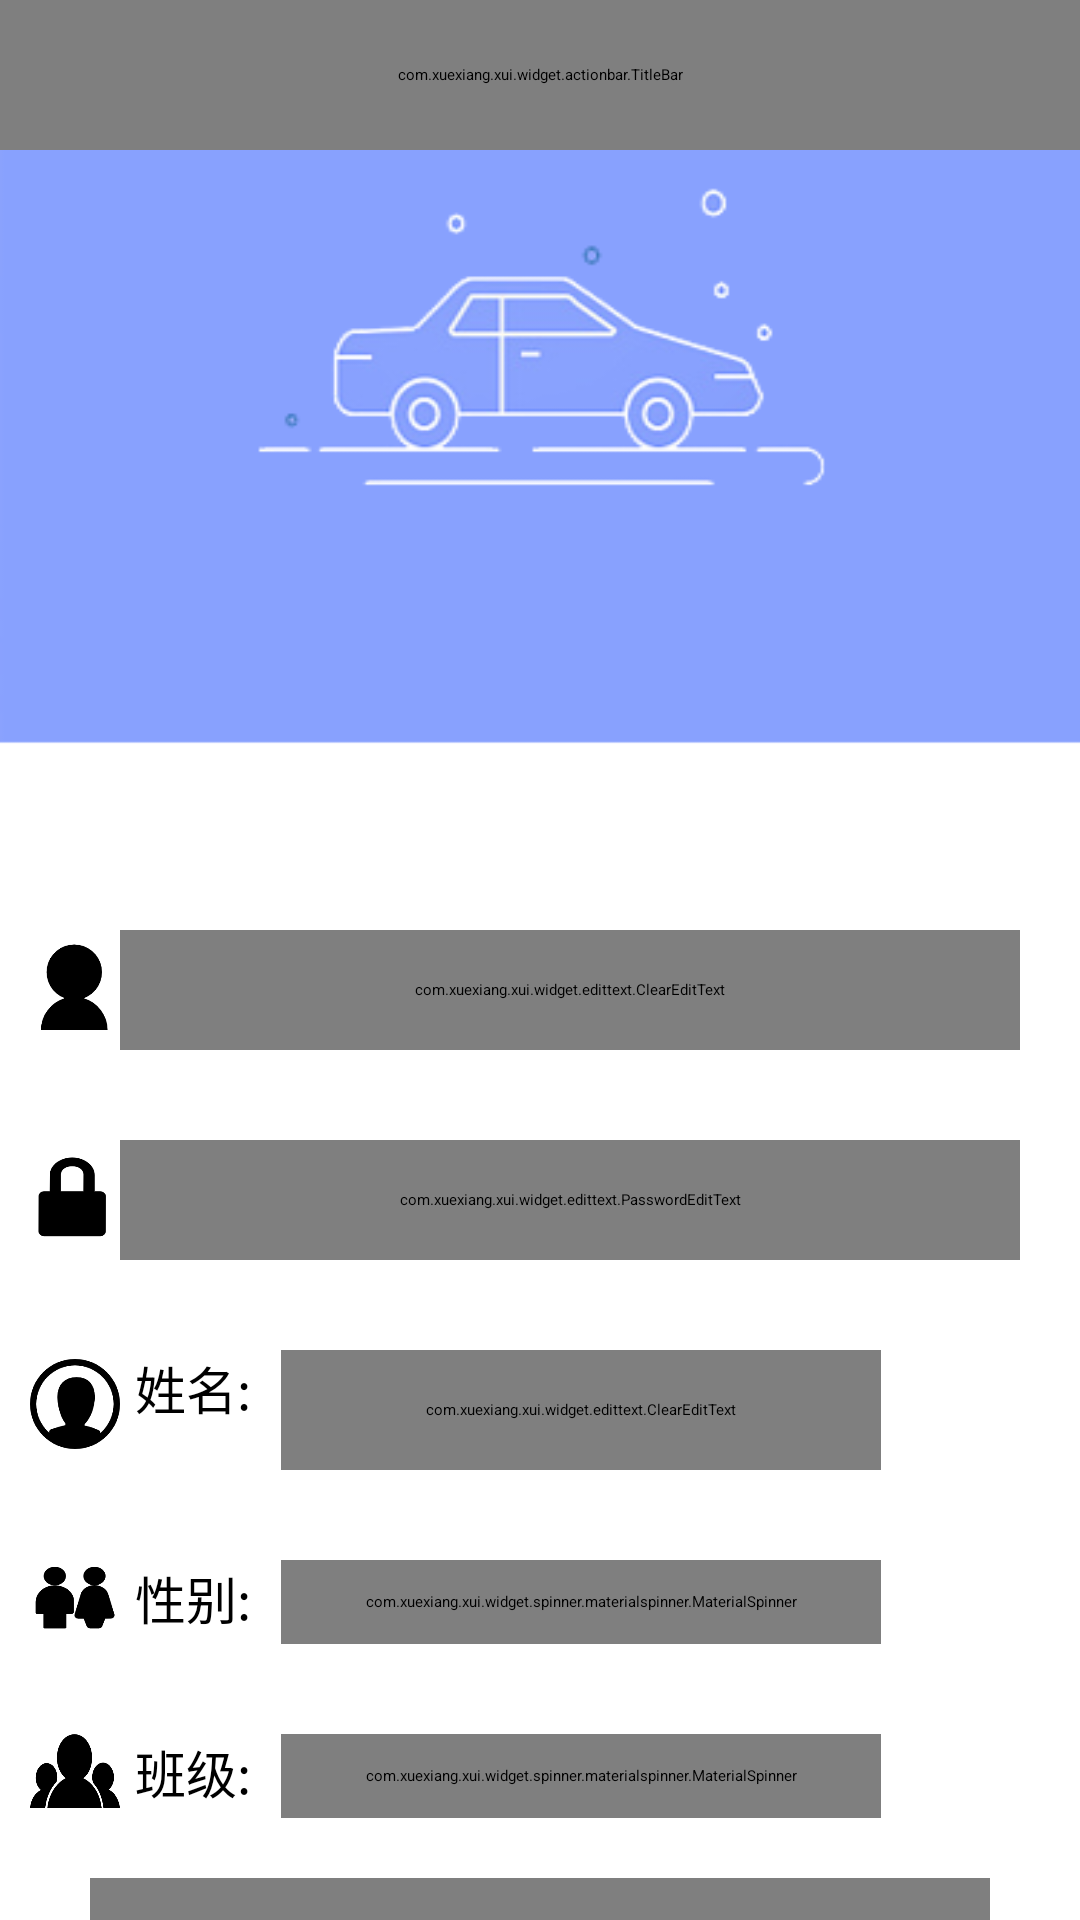

Screen size 1080w x 1920h. Icon name, then its box in pixels as (x1, y1, x2, y2):
user: (41, 944, 108, 1030)
